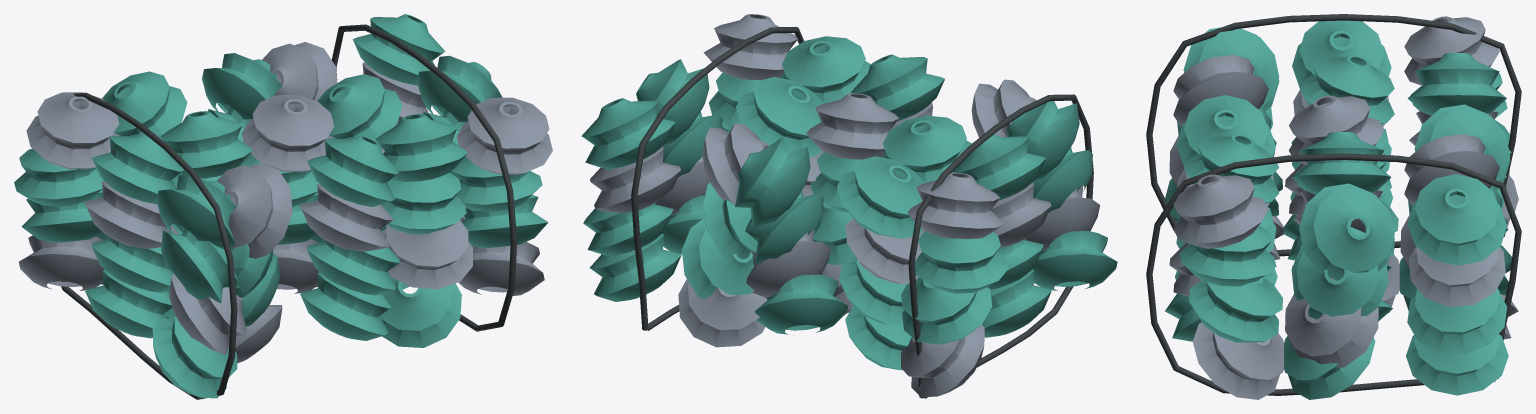
File: recycling-centre-and-material-sorting-compacted-plasti-d4ce1150__31130.glb
3 views of the same model, side by side, from view 1: azimuth 30°, elevation 25°; view 2: azimuth 150°, elevation 25°; view 3: azimuth 270°, elevation 25° (orthographic). The views are drawn at different scales.
Parts seen in each view (by area): view 1: compacted-plastic-bale; view 2: compacted-plastic-bale; view 3: compacted-plastic-bale.
Part boxes in pixels (box(x1,y1,x2,y2)): compacted-plastic-bale: box(14, 14, 552, 399); compacted-plastic-bale: box(581, 14, 1117, 398); compacted-plastic-bale: box(1146, 14, 1521, 399).
Bounding box in the file's own units: 0.902 × 0.4849 × 0.6827.
